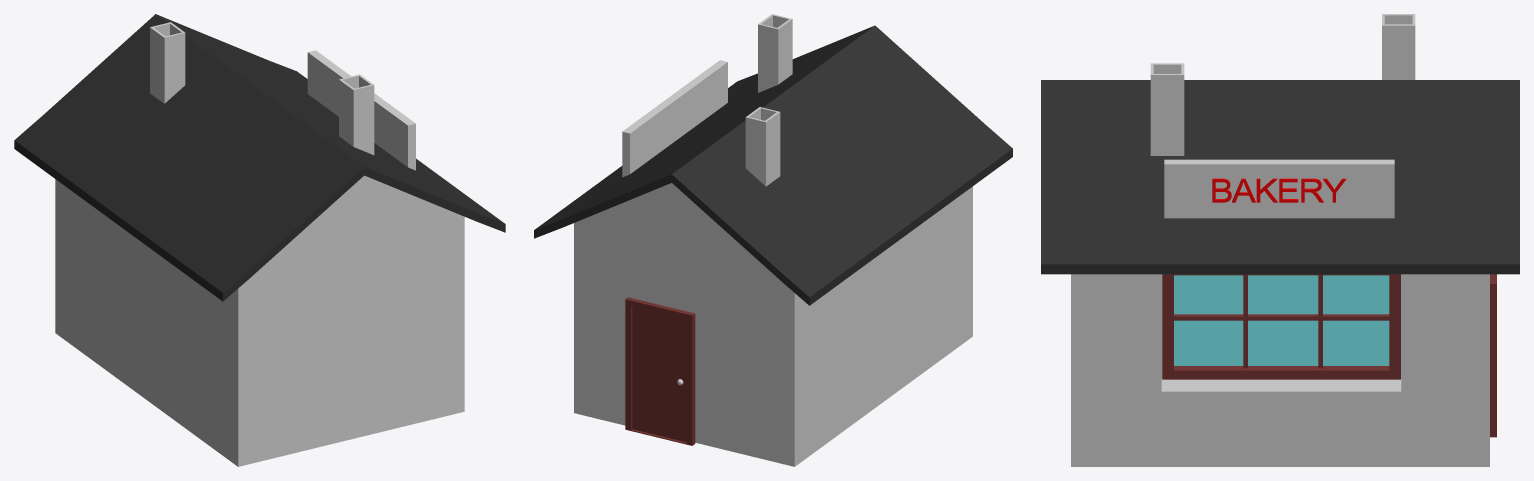
3 views of the same model, side by side, from view 1: azimuth 30°, elevation 25°; view 2: azimuth 150°, elevation 25°; view 3: azimuth 270°, elevation 25° (orthographic). The views are drawn at different scales.
Visible parts, largest first — view 1: Box20195, Object002, Box20199, Box20206, Box20201; view 2: Box20195, Object002, Box20204, Box20199, Box20200, Box20206, Box20201; view 3: Object002, Box20195, Plane003, Box20199, Box20197, Box20201, Box20207, Box20206, Text002, Box20198, Box20196, Box20194 (+1 smaller).
Part boxes in pixels (left/top/right/bottom): Box20195: left=55, top=175, right=464, bottom=466; Object002: left=14, top=14, right=505, bottom=301; Box20199: left=307, top=50, right=415, bottom=170; Box20206: left=150, top=22, right=185, bottom=103; Box20201: left=339, top=74, right=374, bottom=154; Box20195: left=574, top=183, right=972, bottom=466; Object002: left=534, top=25, right=1012, bottom=305; Box20204: left=632, top=307, right=686, bottom=442; Box20199: left=622, top=60, right=727, bottom=177; Box20200: left=625, top=297, right=695, bottom=445; Box20206: left=745, top=107, right=780, bottom=186; Box20201: left=758, top=14, right=792, bottom=92; Object002: left=1041, top=80, right=1519, bottom=274; Box20195: left=1071, top=274, right=1489, bottom=466; Plane003: left=1174, top=275, right=1389, bottom=365; Box20199: left=1164, top=159, right=1394, bottom=218; Box20197: left=1161, top=379, right=1401, bottom=395; Box20201: left=1150, top=63, right=1184, bottom=155; Box20207: left=1165, top=366, right=1394, bottom=379; Box20206: left=1382, top=14, right=1415, bottom=79; Text002: left=1212, top=178, right=1346, bottom=202; Box20198: left=1174, top=314, right=1389, bottom=320; Box20196: left=1389, top=274, right=1400, bottom=379; Box20194: left=1162, top=274, right=1173, bottom=379.
Bounding box in the file's own units: 6779 × 7244 × 8672.
